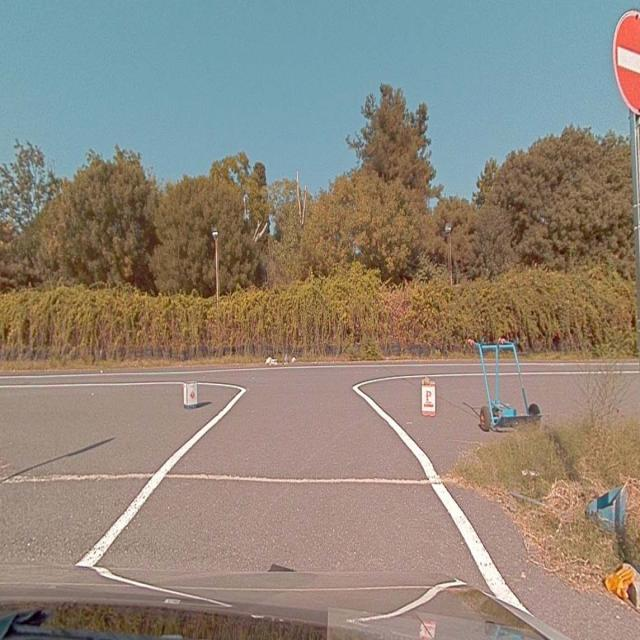girisyok: (616, 11, 640, 113)
